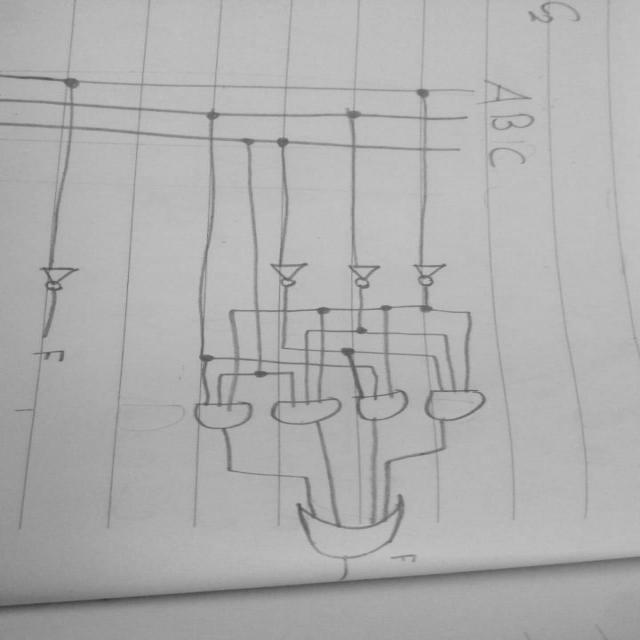AND: (422, 385, 504, 426), (267, 396, 344, 431), (184, 397, 258, 433), (348, 392, 412, 423)
NOT: (36, 257, 90, 297), (342, 260, 391, 292), (261, 261, 318, 288), (408, 261, 456, 288)
OR: (283, 495, 431, 563)
